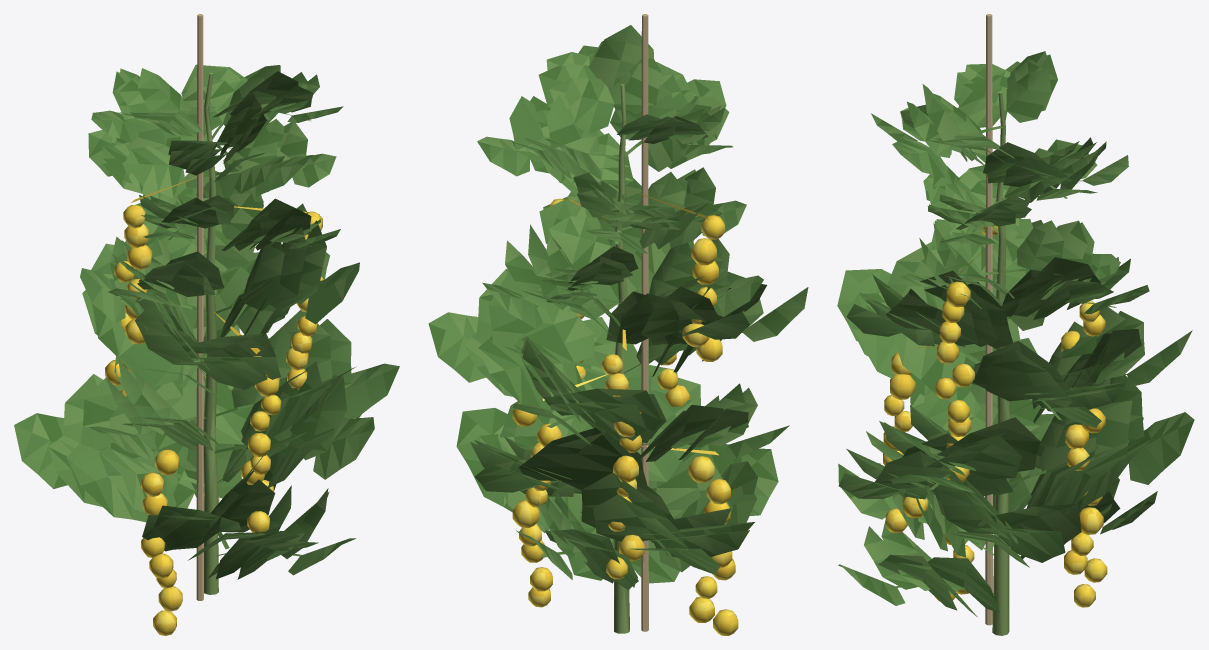
The model's file is tomate_cerise_jaune_mur.glb.
3 renders of one model, left to right at view 1: azimuth 30°, elevation 25°; view 2: azimuth 150°, elevation 25°; view 3: azimuth 270°, elevation 25°, orthographic. The views are drawn at different scales.
Visible parts, largest first — view 1: Tomate_Feuilles, Tomate_Fruits, Tomate_Tige, Tomate_Tuteur; view 2: Tomate_Feuilles, Tomate_Fruits, Tomate_Tuteur, Tomate_Tige; view 3: Tomate_Feuilles, Tomate_Fruits, Tomate_Tige, Tomate_Tuteur.
Boxes of the visible parts, bbox=[...] form: Tomate_Feuilles: bbox=[14, 64, 399, 579]; Tomate_Fruits: bbox=[105, 174, 323, 635]; Tomate_Tige: bbox=[203, 72, 218, 594]; Tomate_Tuteur: bbox=[196, 14, 203, 600]; Tomate_Feuilles: bbox=[428, 25, 808, 590]; Tomate_Fruits: bbox=[512, 190, 738, 635]; Tomate_Tuteur: bbox=[641, 14, 648, 631]; Tomate_Tige: bbox=[614, 84, 629, 633]; Tomate_Feuilles: bbox=[837, 51, 1194, 617]; Tomate_Fruits: bbox=[883, 164, 1107, 607]; Tomate_Tige: bbox=[992, 91, 1010, 635]; Tomate_Tuteur: bbox=[985, 14, 992, 625].
Size of the model in its own units: 0.561 by 1.07 by 0.5641.
